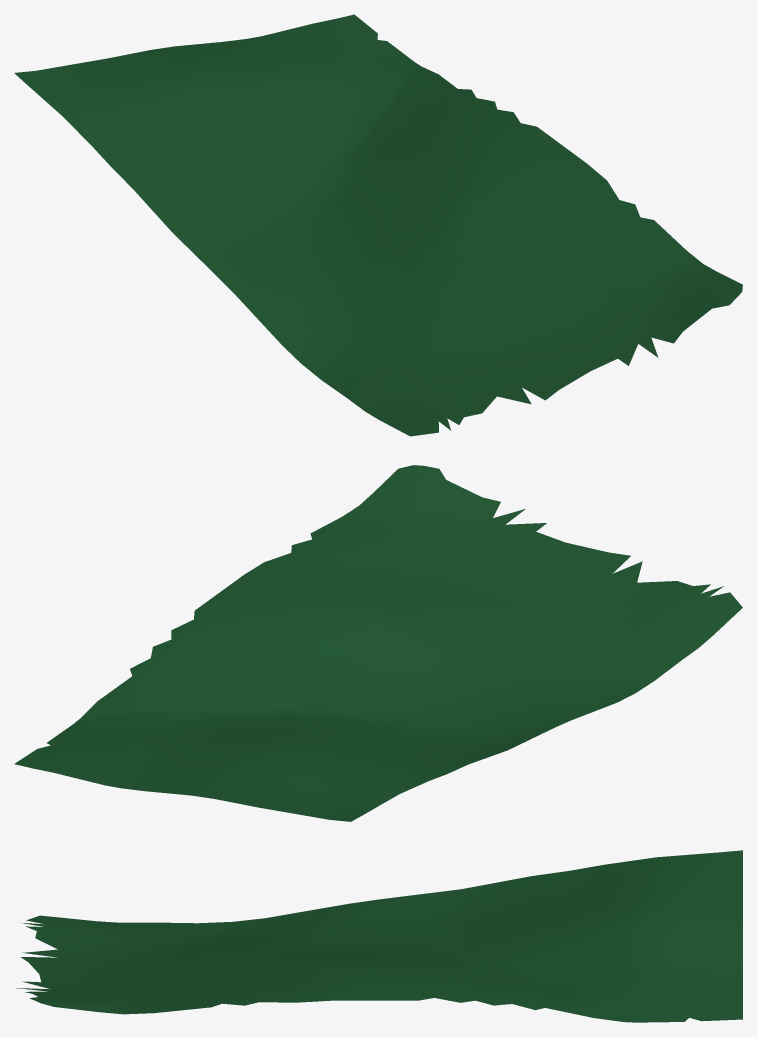
File: payo_land_x4_y3_lod1.glb
The picture shows the model from 3 angles, top to bottom: view 1: azimuth 30°, elevation 25°; view 2: azimuth 150°, elevation 25°; view 3: azimuth 270°, elevation 25°; orthographic projection. The views are drawn at different scales.
Visible parts, largest first — view 1: payo_land_x4_y3; view 2: payo_land_x4_y3; view 3: payo_land_x4_y3.
Boxes of the visible parts, x1=… form: payo_land_x4_y3: x1=14, y1=14, x2=742, y2=436; payo_land_x4_y3: x1=14, y1=465, x2=742, y2=821; payo_land_x4_y3: x1=16, y1=850, x2=742, y2=1022.
Size of the model in its own units: 126 by 29.07 by 263.
